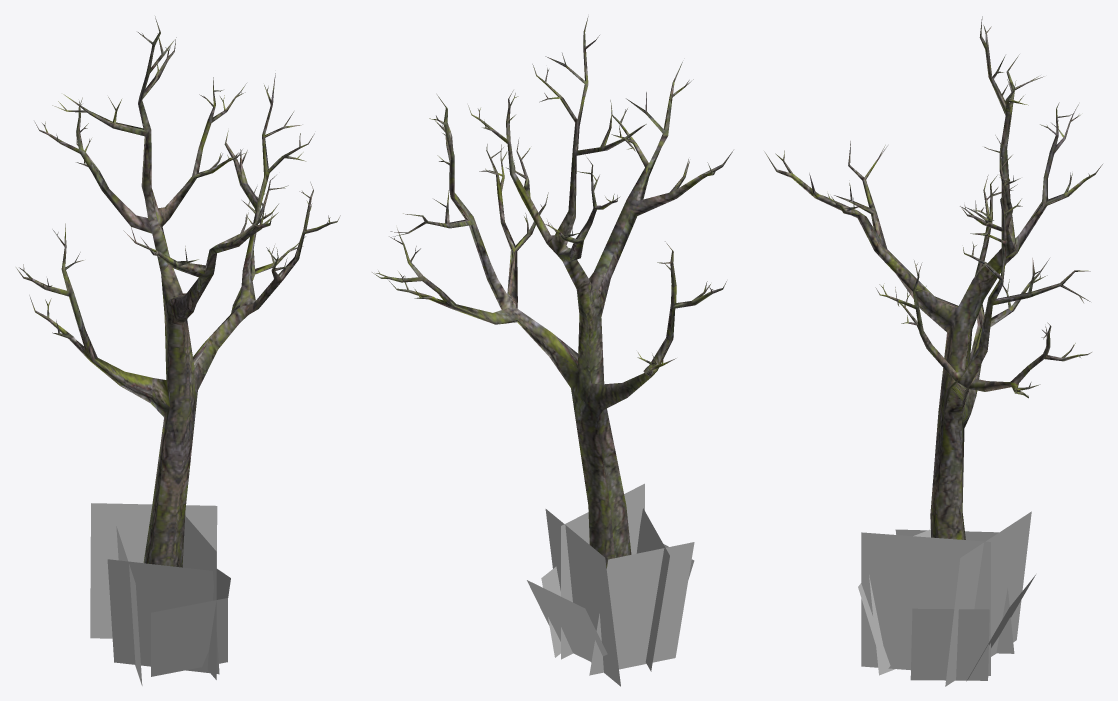
The model's file is Model_Tree_13.fbx.
The picture shows the model from 3 angles, left to right: view 1: azimuth 30°, elevation 25°; view 2: azimuth 150°, elevation 25°; view 3: azimuth 270°, elevation 25°; orthographic projection. The views are drawn at different scales.
Parts seen in each view (by area): view 1: Tree_14; view 2: Tree_14; view 3: Tree_14.
Part boxes in pixels (x1,y1,x2,y2): Tree_14: [16, 16, 340, 685]; Tree_14: [372, 16, 733, 686]; Tree_14: [764, 16, 1102, 686].
Bounding box in the file's own units: 284 × 554 × 259.
